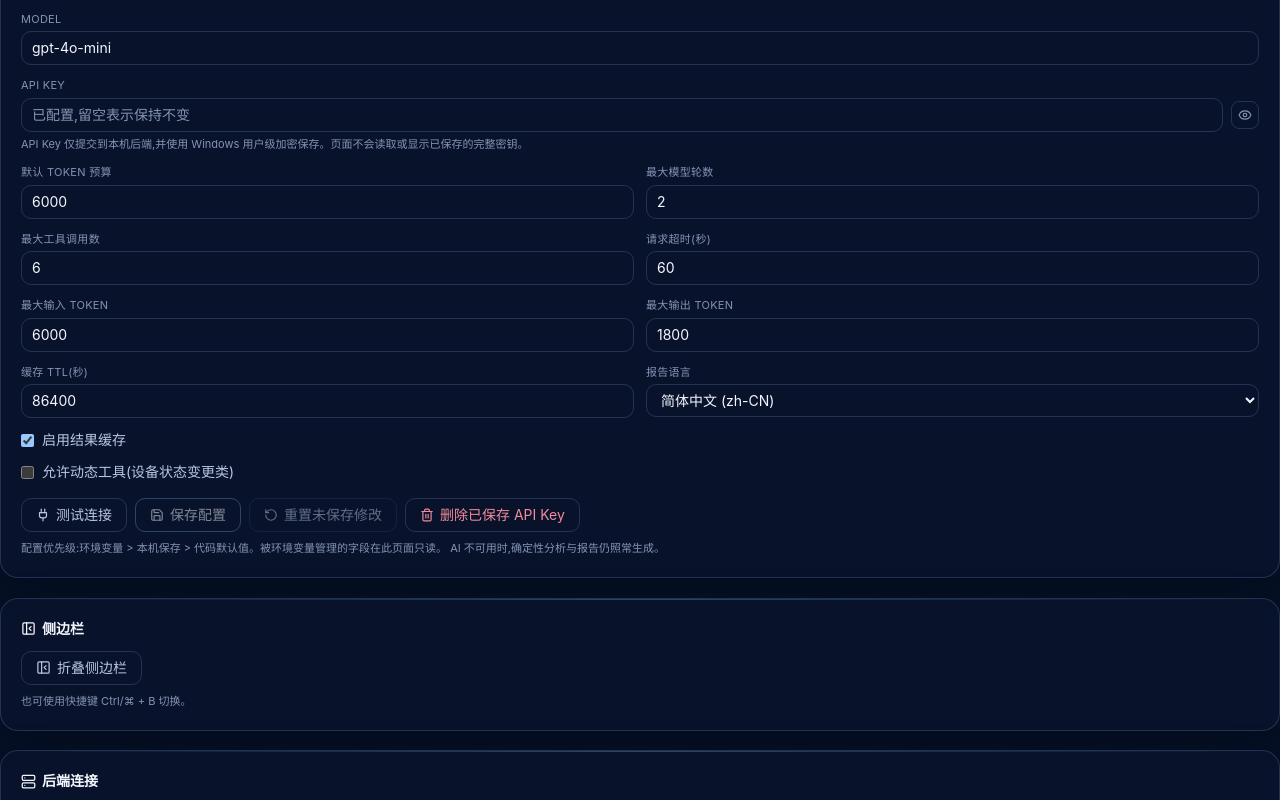
Scenario: M6C — 原生控件与深色主题对齐 › 切换报告语言到 English 后可正常保存并回读
(page scrolled)
Select "English (en-US)" in the dropdown labelled "报告语言" at (952, 400), box [646,384,1259,417]
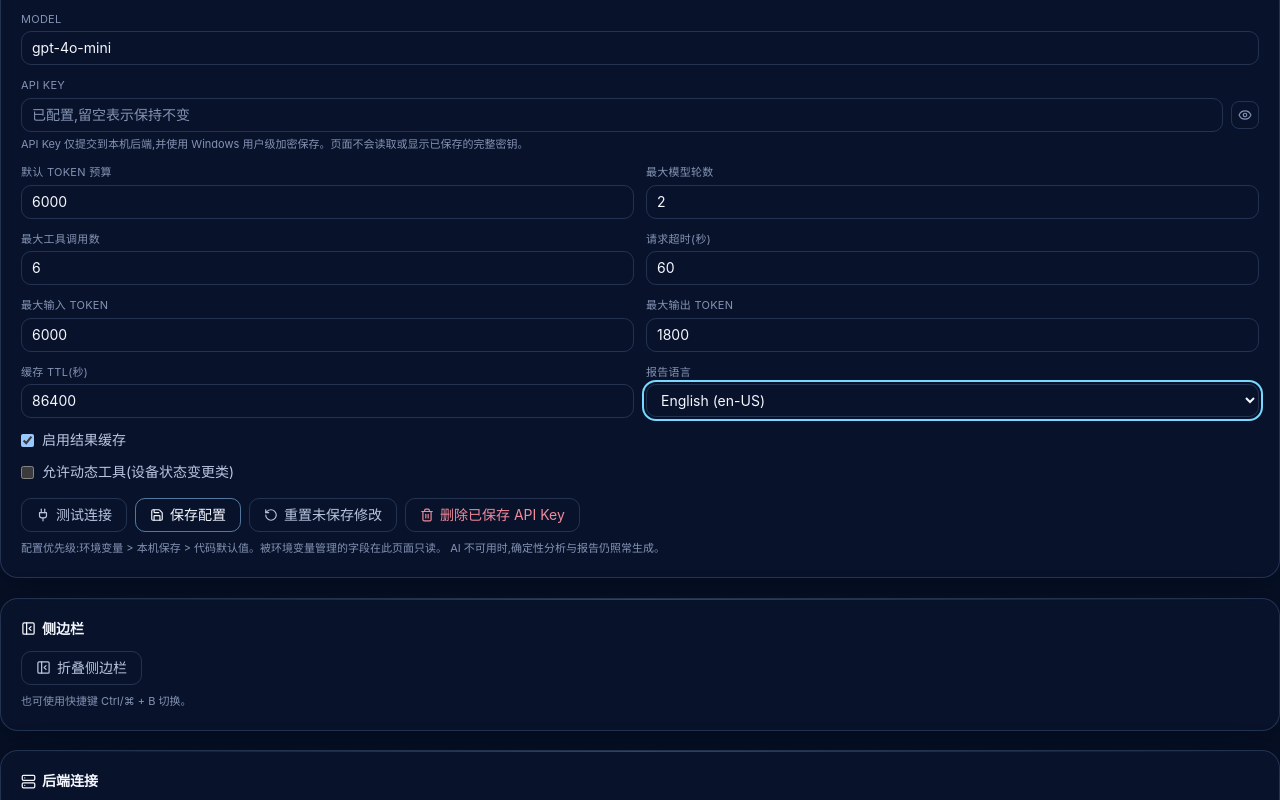
Click the button with test id "ai-settings-save".
click(188, 515)  # box [135,498,241,532]
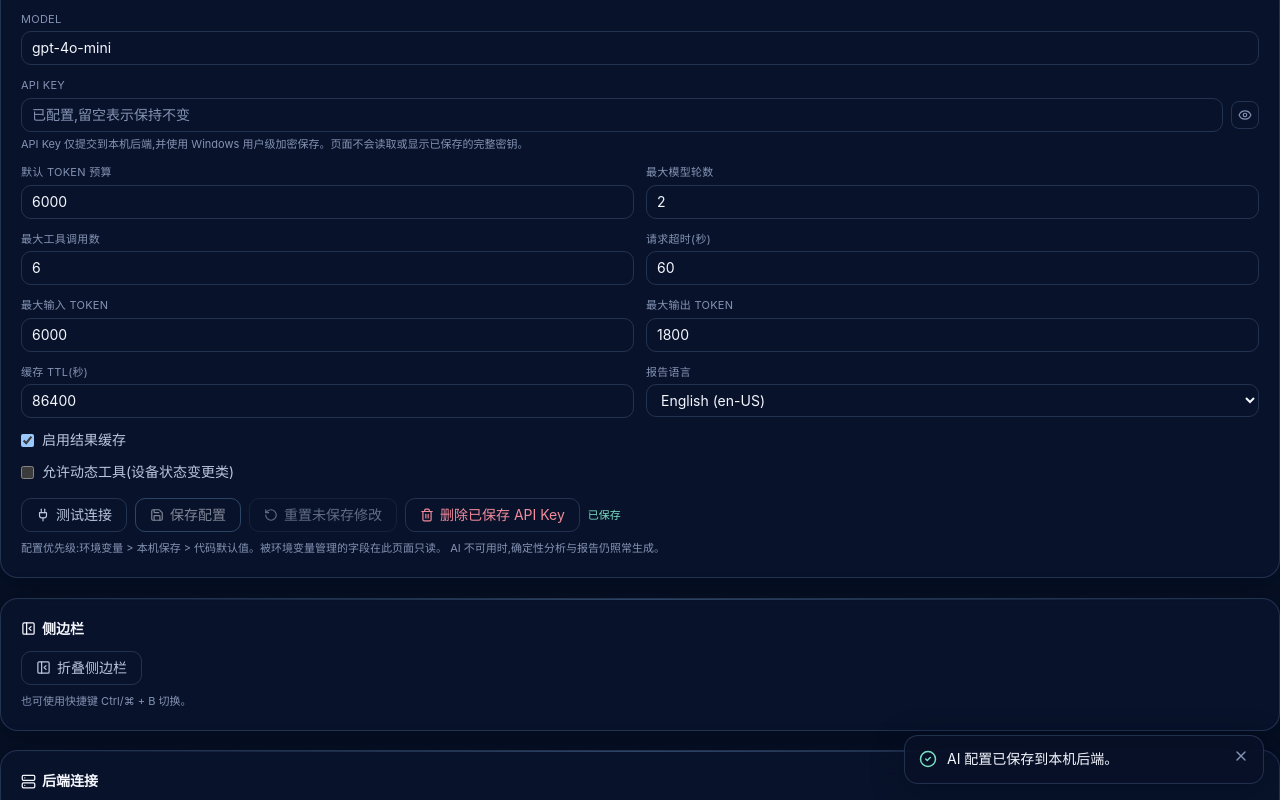
Expected: the text "已保存" is shown, [588,507,621,523]
